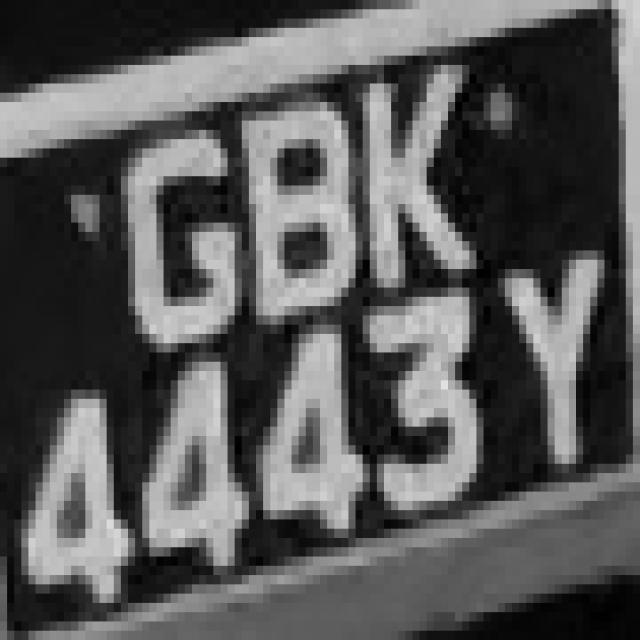3: (362, 278, 483, 529)
4: (228, 288, 370, 584), (121, 334, 263, 612), (14, 353, 135, 612)
B: (213, 55, 370, 352)
G: (107, 102, 249, 352)
K: (342, 19, 484, 288)
Y: (498, 222, 626, 528)
